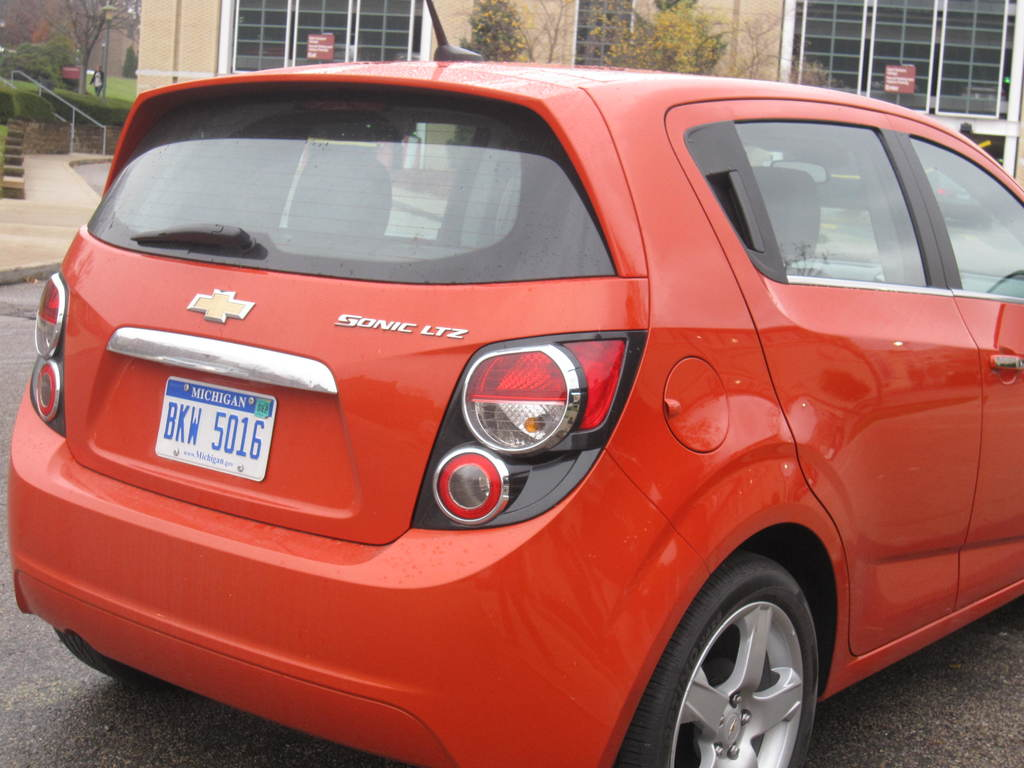license plate: (171, 370, 285, 458)
